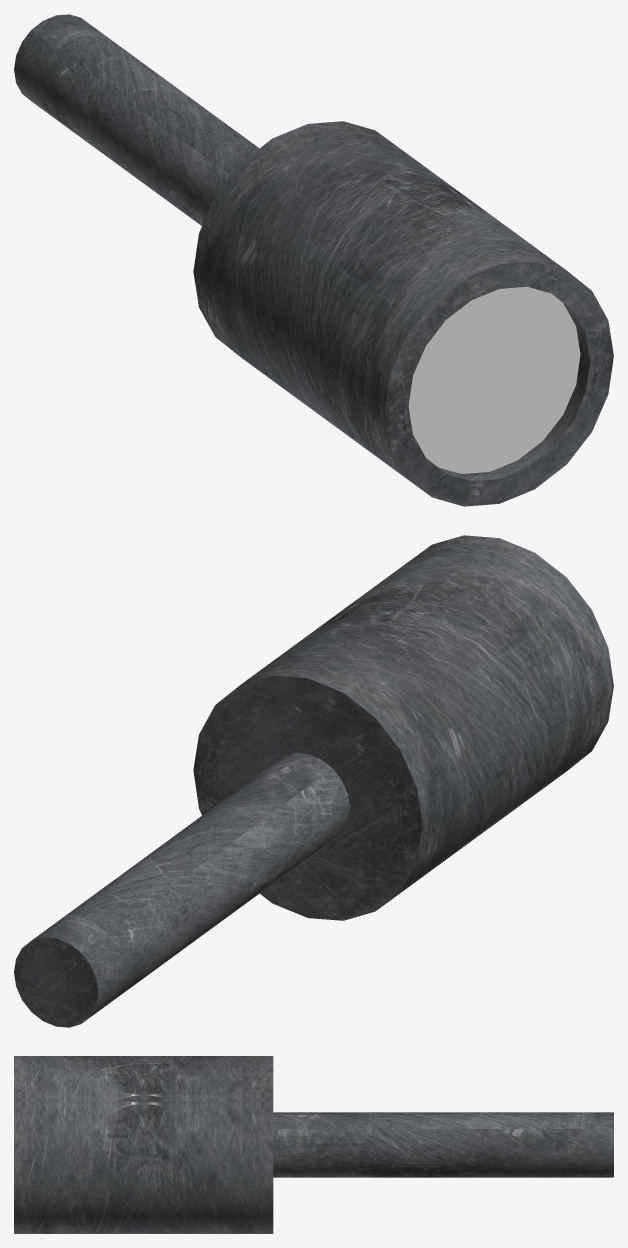
The model's file is spot.fbx.
3 renders of one model, top to bottom at view 1: azimuth 30°, elevation 25°; view 2: azimuth 150°, elevation 25°; view 3: azimuth 270°, elevation 25°, orthographic. The views are drawn at different scales.
Parts seen in each view (by area): view 1: spot; view 2: spot; view 3: spot.
Boxes of the visible parts, bbox=[...] form: spot: bbox=[14, 14, 613, 506]; spot: bbox=[14, 535, 613, 1027]; spot: bbox=[14, 1056, 613, 1233].
Bounding box in the file's own units: 53.55 × 53.55 × 179.
2 materials, 1 textured.
